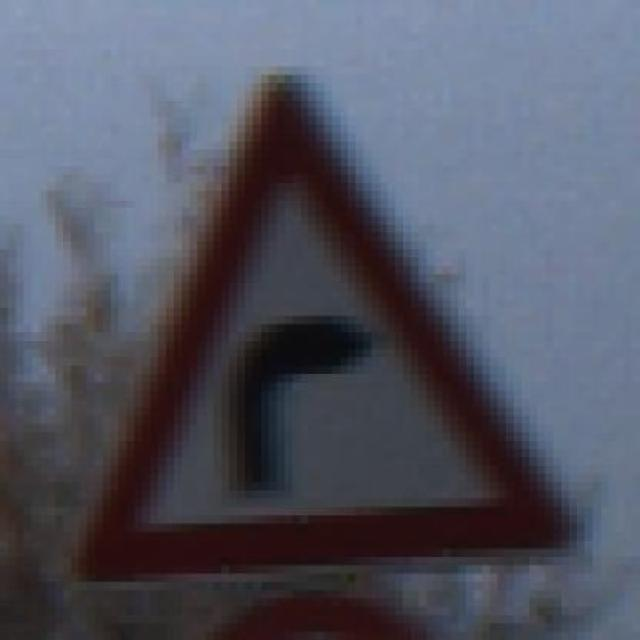Dangerous Rright Curve Ahead: (56, 58, 570, 574)
